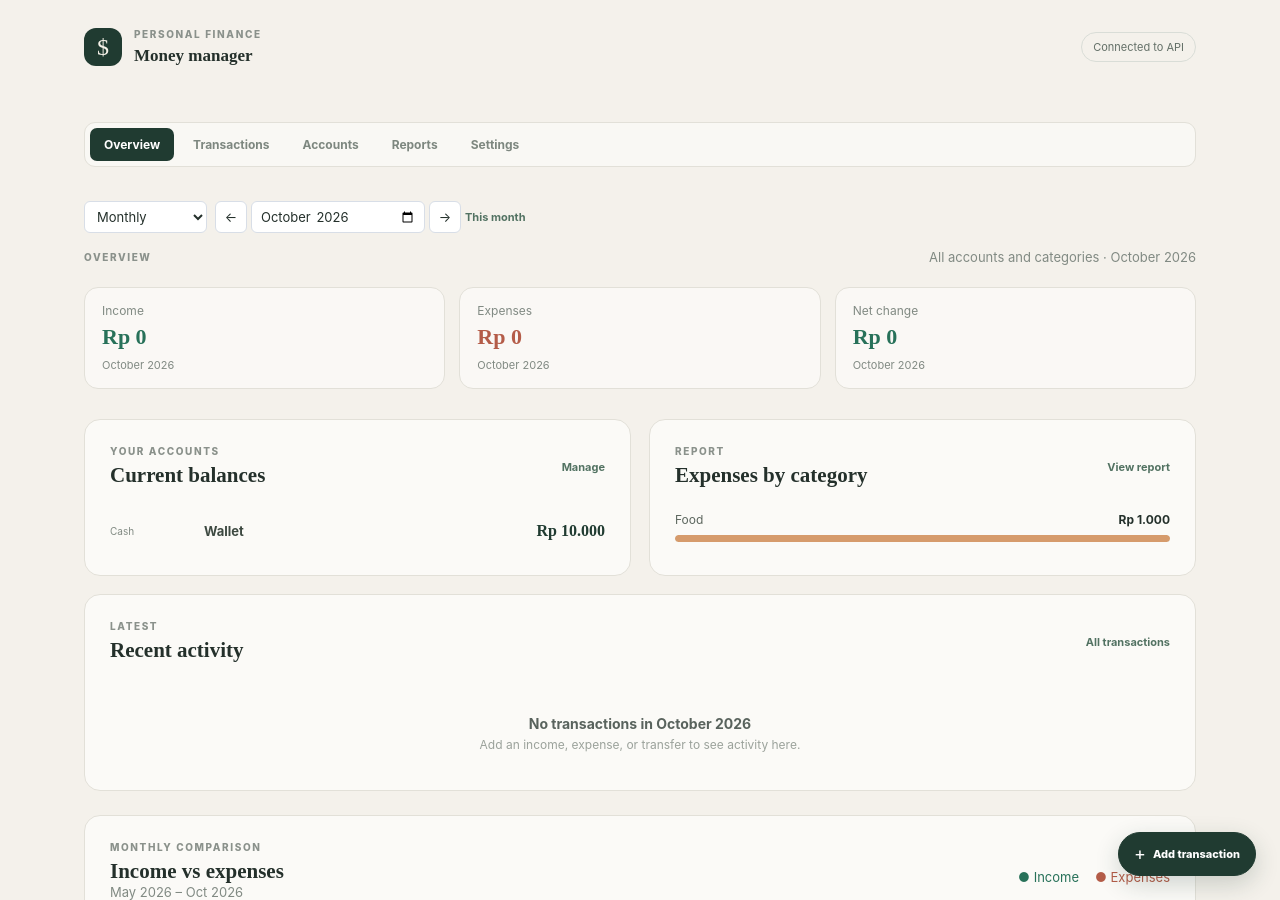
keeps search and expanded filters during background refresh
Expected: the heading "Current balances" is shown, [110,463,265,488]
Click the button "Transactions".
click(231, 144)  # box [179,128,284,161]
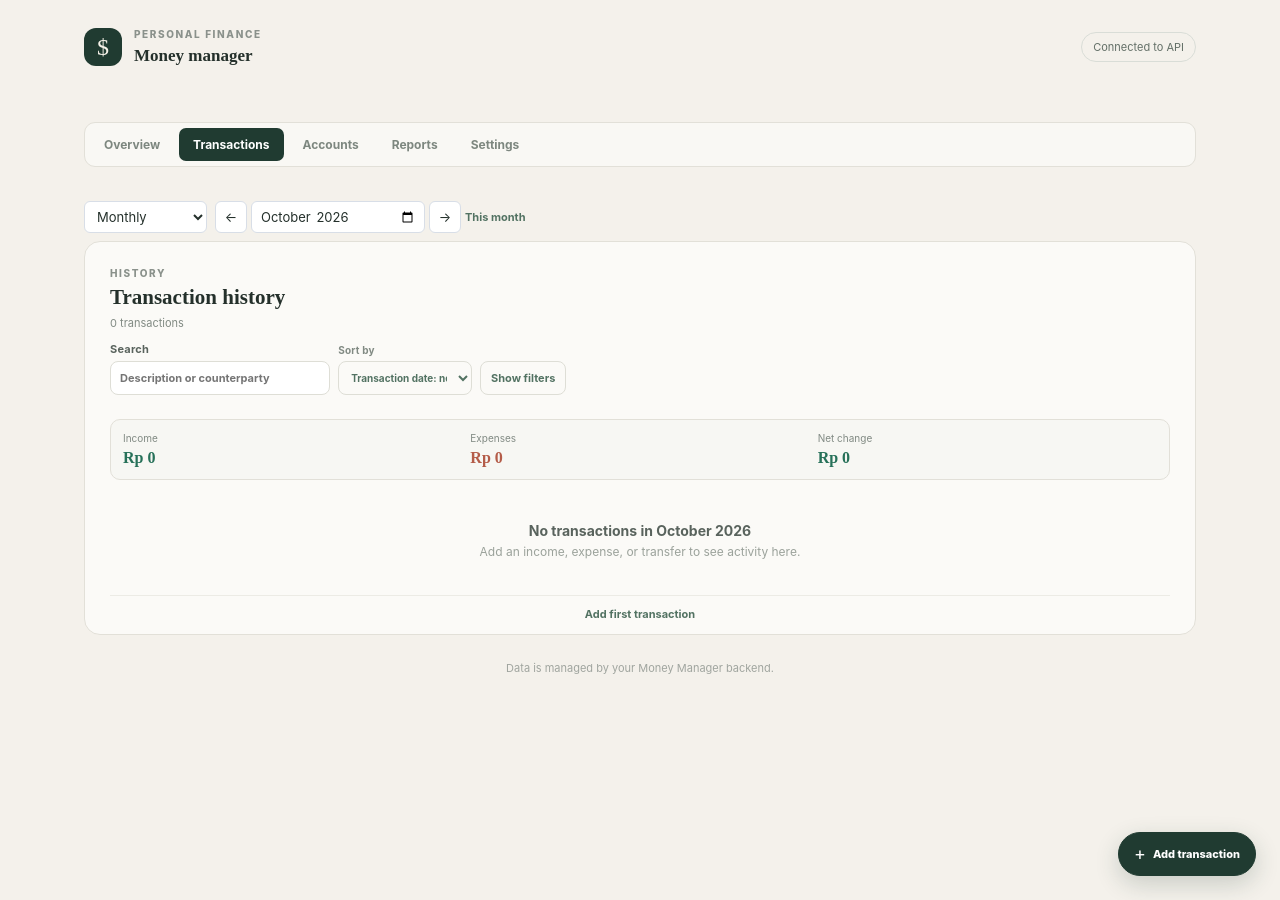
Type "coffee" into the field named "Search transactions".
click(220, 378); type("coffee")  # box [110,361,330,395]
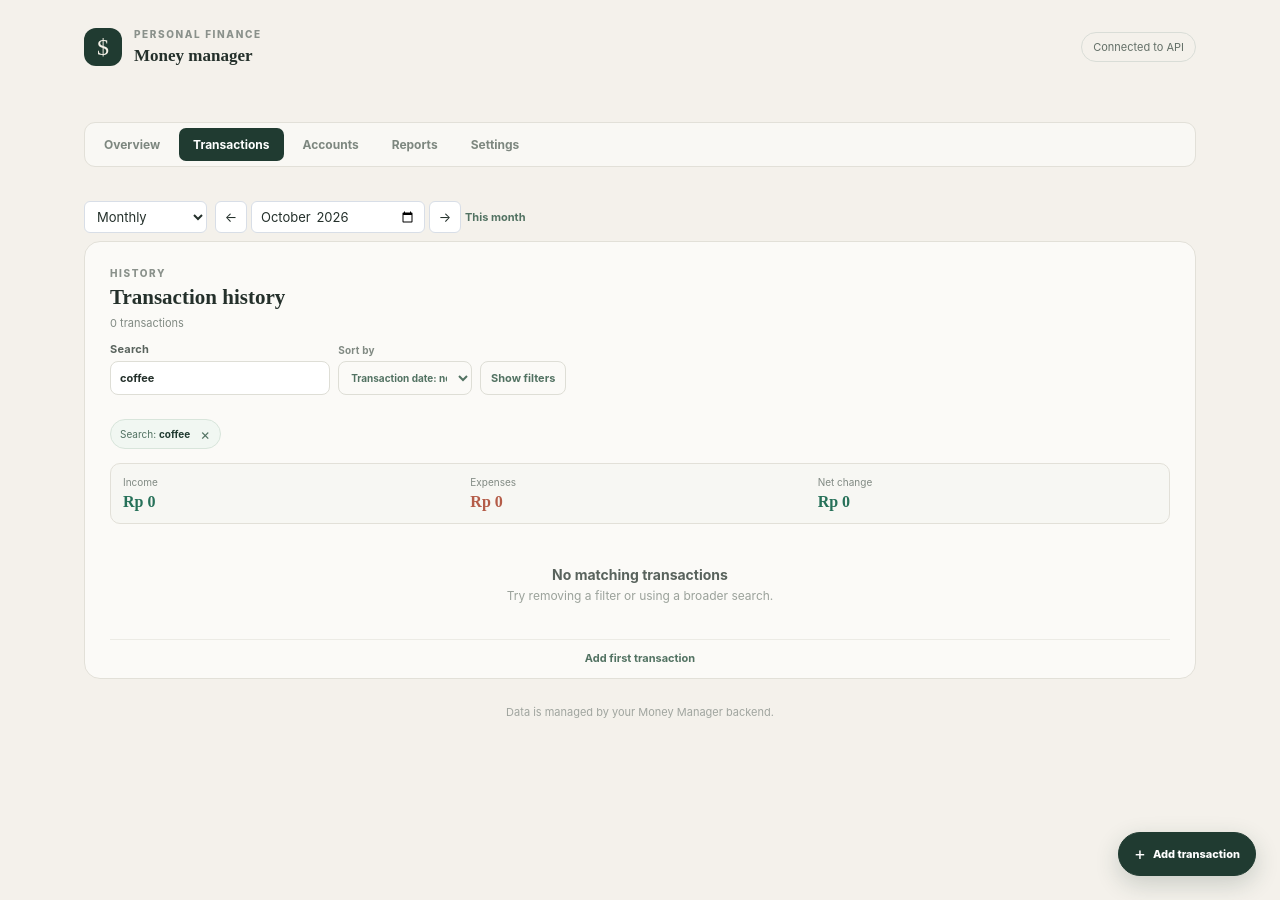
Click the button "Show filters".
click(523, 378)  # box [480,361,566,395]
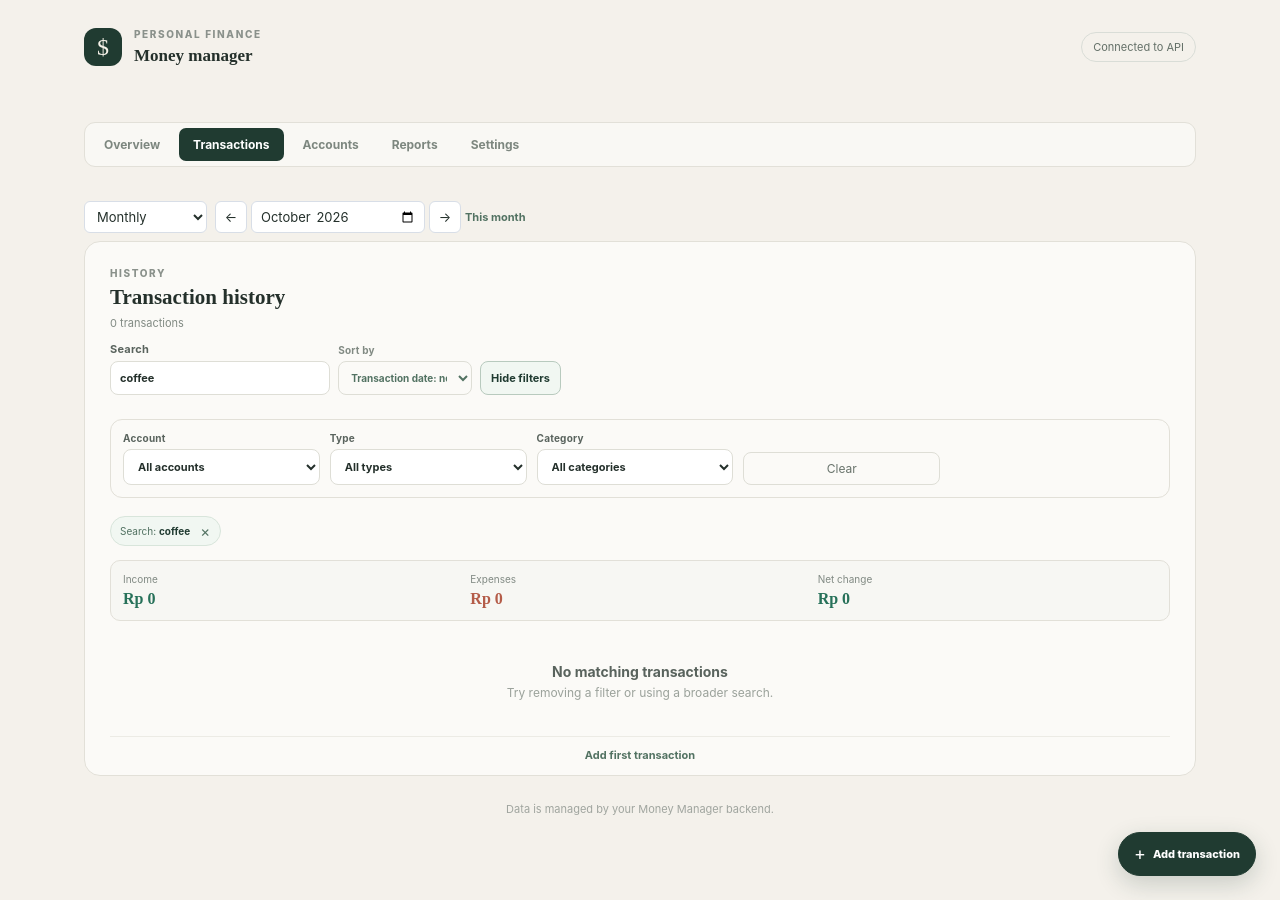
Now the button "Hide filters" is shown, box [480,361,561,395]
